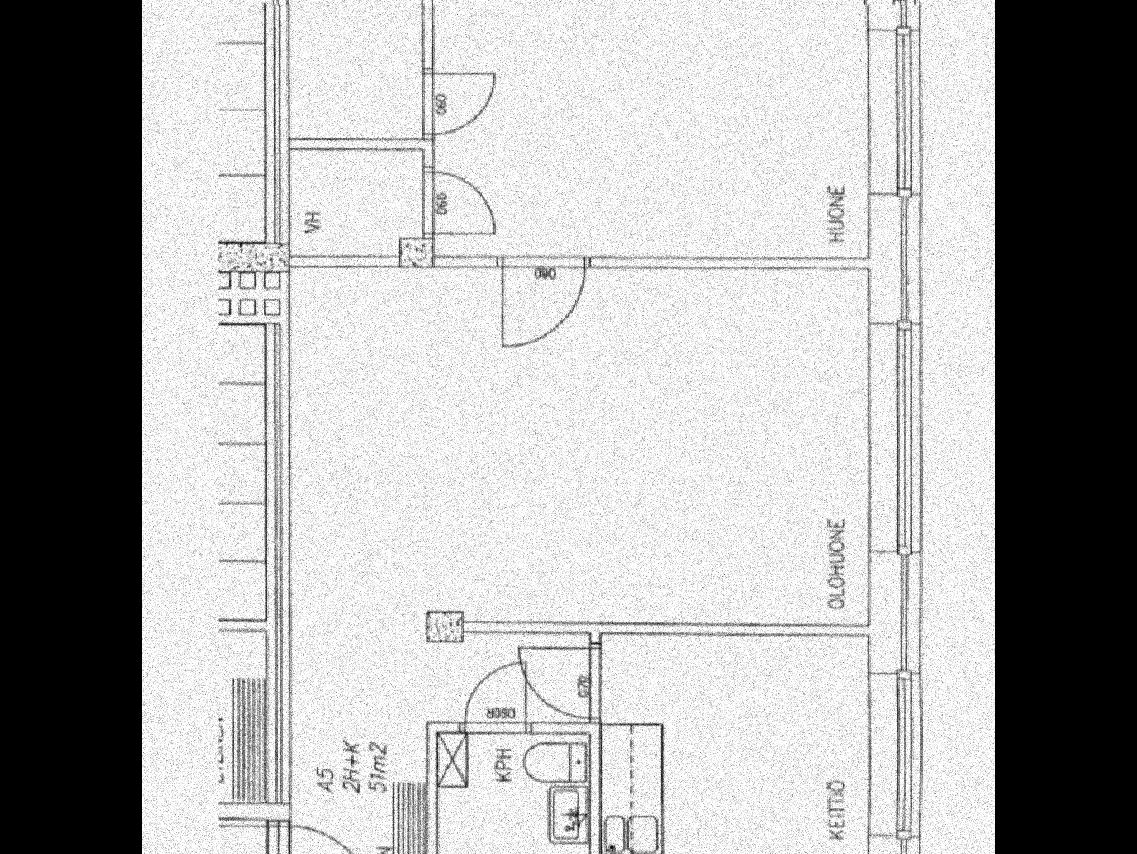door: (208, 805, 394, 854), (500, 256, 581, 346), (518, 648, 600, 724), (446, 662, 530, 734), (416, 172, 502, 234), (419, 68, 498, 132)
zone: (295, 271, 872, 854), (433, 0, 864, 249), (598, 637, 871, 854), (286, 0, 426, 139), (437, 732, 587, 854), (296, 154, 430, 252)
